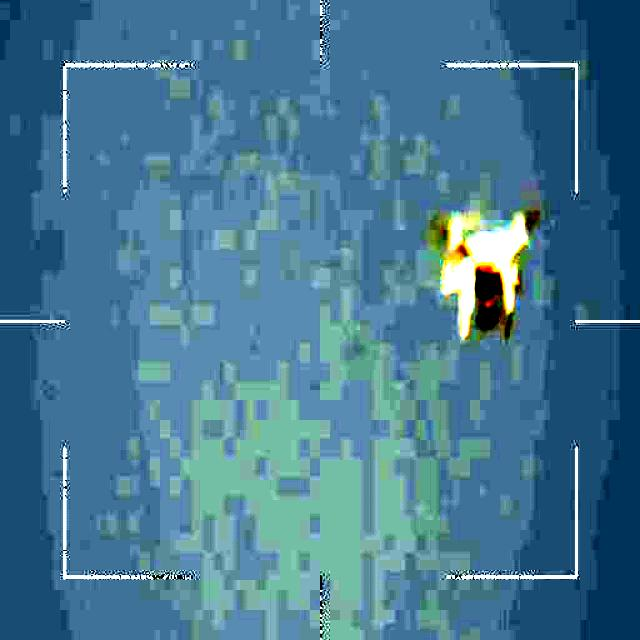bird: (439, 205, 540, 351)
